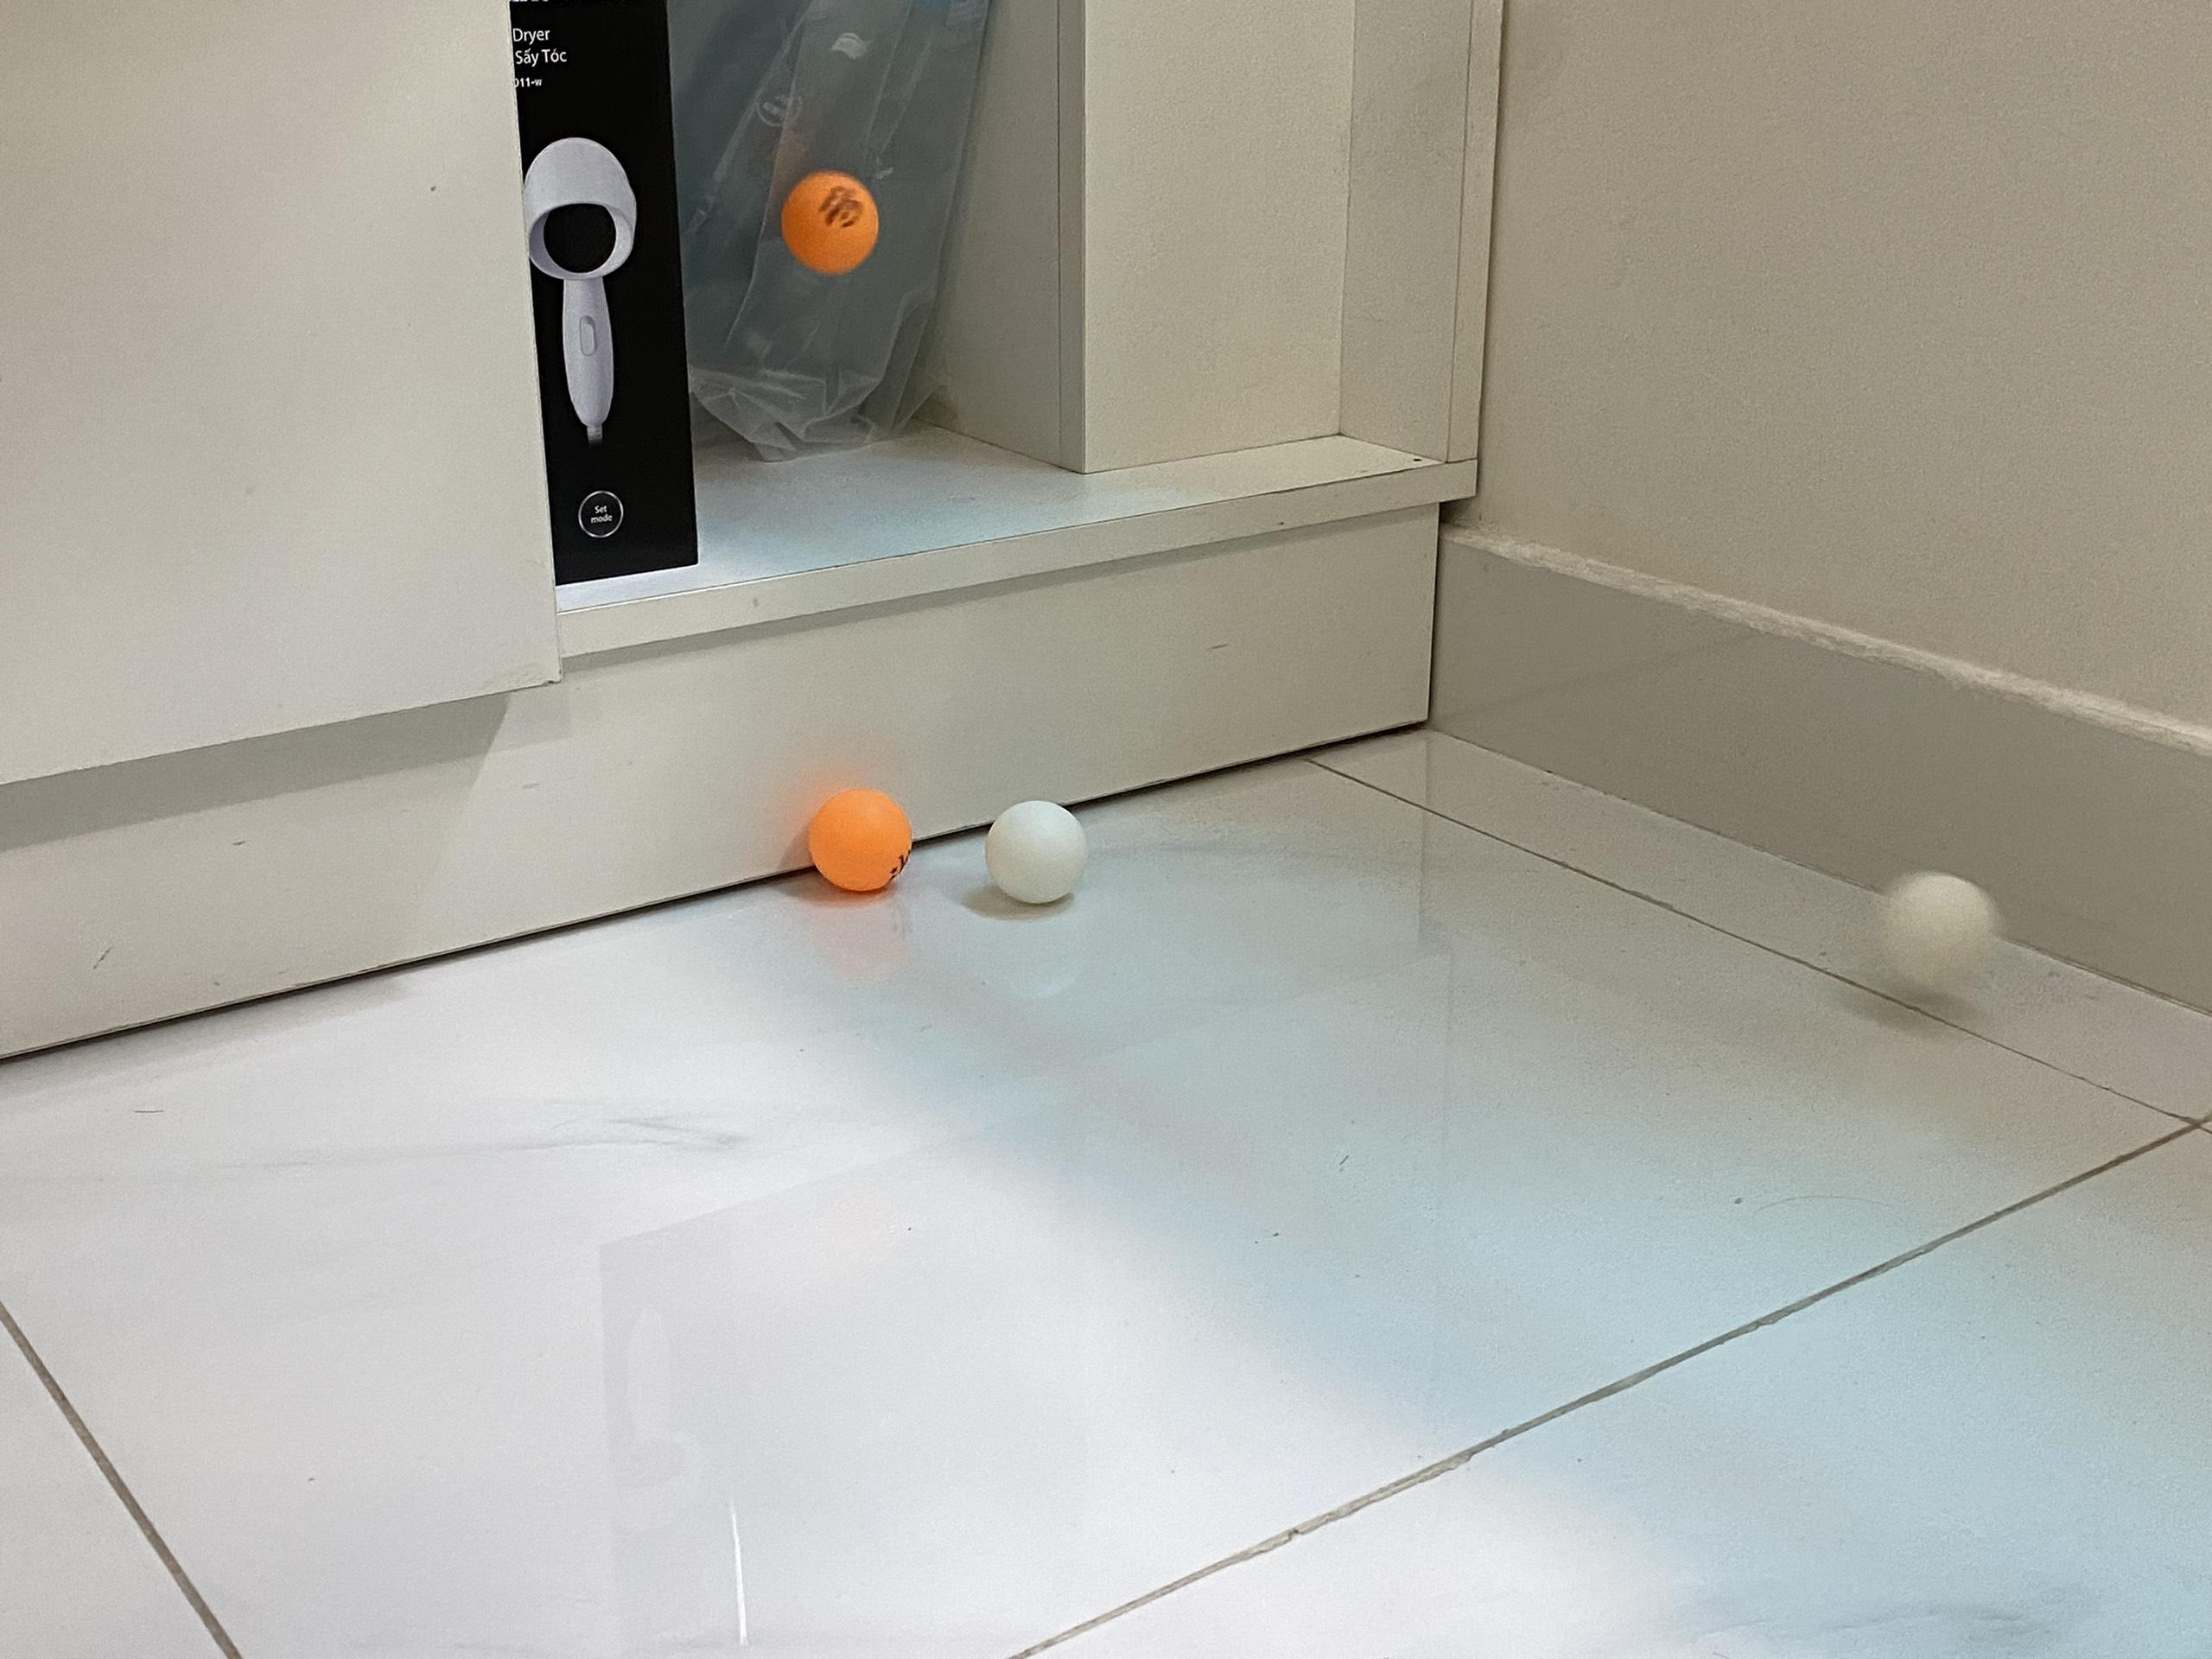oball: (808, 788, 914, 892), (784, 171, 881, 274)
